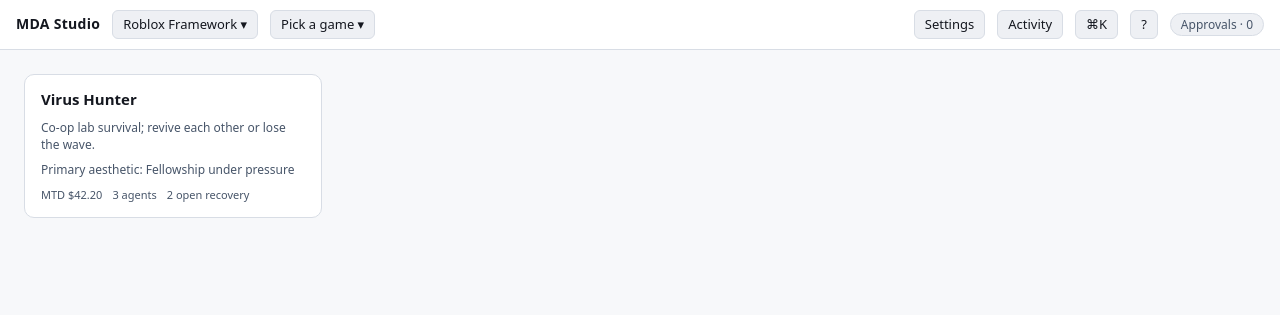
Test: App › typing in chrome search applies the q lens and filters the tree
Click the text "Virus Hunter" at (89, 100), box [41, 89, 137, 111]
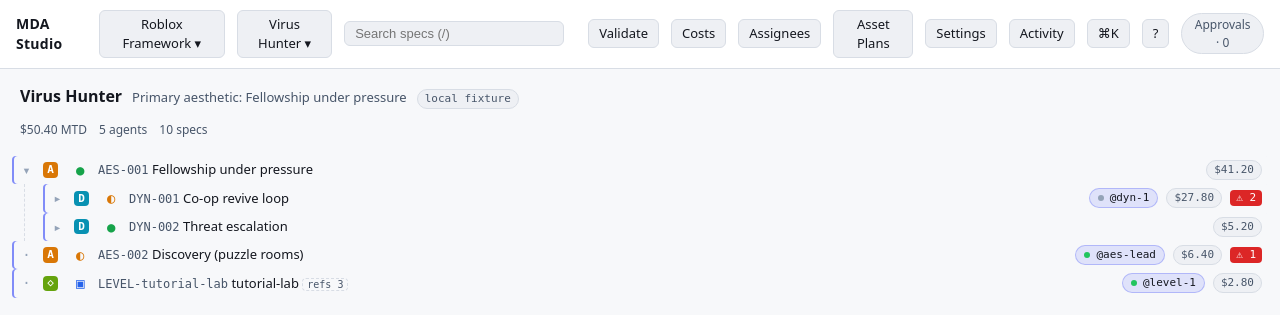
Expected: the list is shown, [12, 156, 1268, 298]
Type "revive interaction" into the search field labelled "Search specs" at (454, 34), box [344, 21, 564, 46]
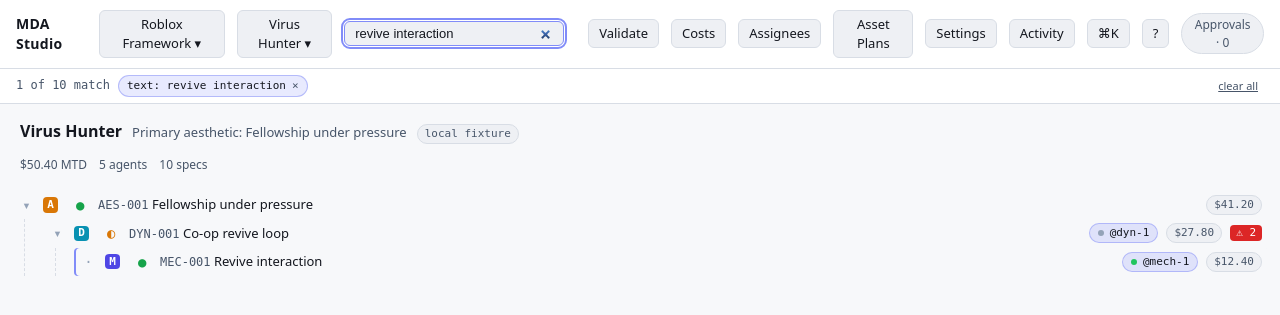
Expected: the text "text: revive interaction" is shown, [127, 78, 286, 94]
Expected: the text "AES-002" is gone
Expected: the text "MEC-001" is shown, [160, 255, 211, 269]
